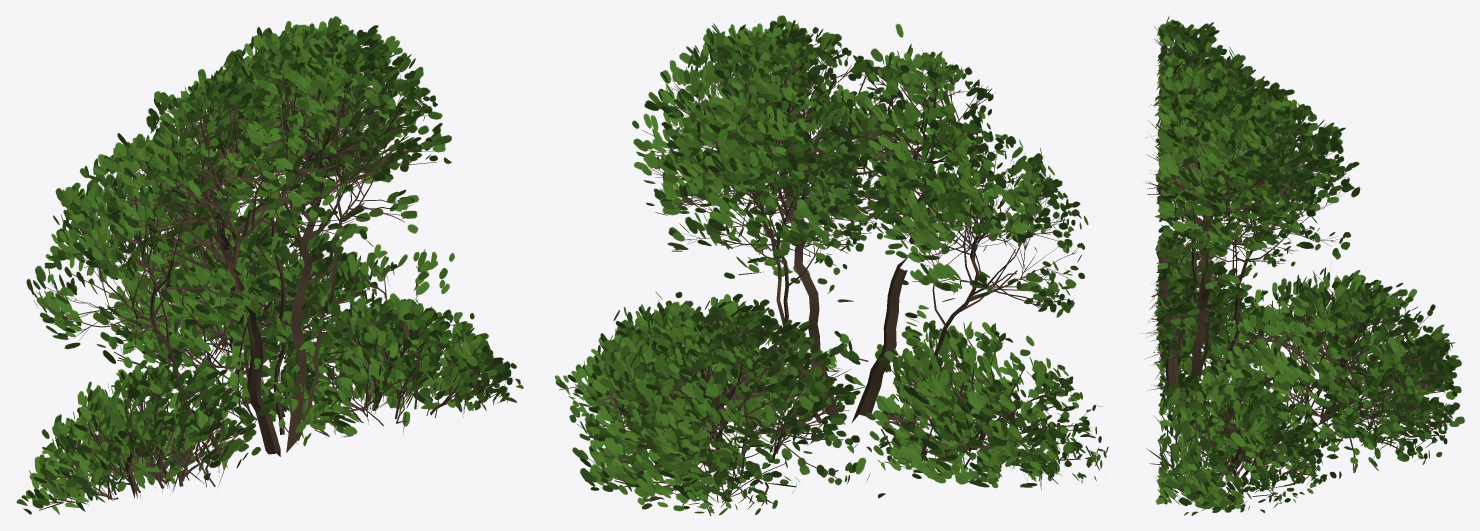
3 renders of one model, left to right at view 1: azimuth 30°, elevation 25°; view 2: azimuth 150°, elevation 25°; view 3: azimuth 270°, elevation 25°, orthographic. The views are drawn at different scales.
Visible parts, largest first — view 1: oak 01.001_trunk_Mat.001_0.333; view 2: oak 01.001_trunk_Mat.001_0.333; view 3: oak 01.001_trunk_Mat.001_0.333.
Part boxes in pixels (x1,y1,x2,y2): oak 01.001_trunk_Mat.001_0.333: [16, 16, 523, 514]; oak 01.001_trunk_Mat.001_0.333: [554, 15, 1108, 515]; oak 01.001_trunk_Mat.001_0.333: [1141, 15, 1464, 515].
Size of the model in its own units: 4.2 by 3.34 by 2.59.
2 materials, 1 textured.
